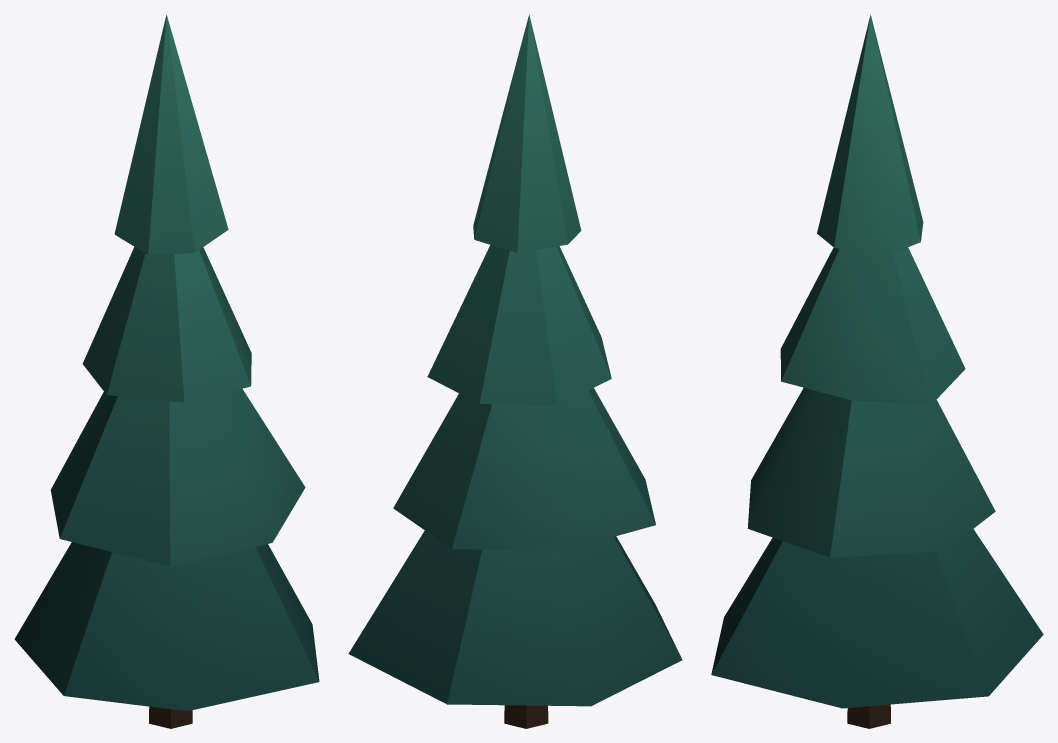
The model's file is Pine_C.fbx.
3 views of the same model, side by side, from view 1: azimuth 30°, elevation 25°; view 2: azimuth 150°, elevation 25°; view 3: azimuth 270°, elevation 25° (orthographic).
Parts seen in each view (by area): view 1: Pine_C_LOD0; view 2: Pine_C_LOD0; view 3: Pine_C_LOD0.
Part boxes in pixels (x1,y1,x2,y2): Pine_C_LOD0: (14,14,319,728); Pine_C_LOD0: (348,14,682,728); Pine_C_LOD0: (711,14,1043,728).
Size of what is drawn, in the model's own units: 2.93 by 7.6 by 3.26.
Materials: 1 (1 with a texture image).
